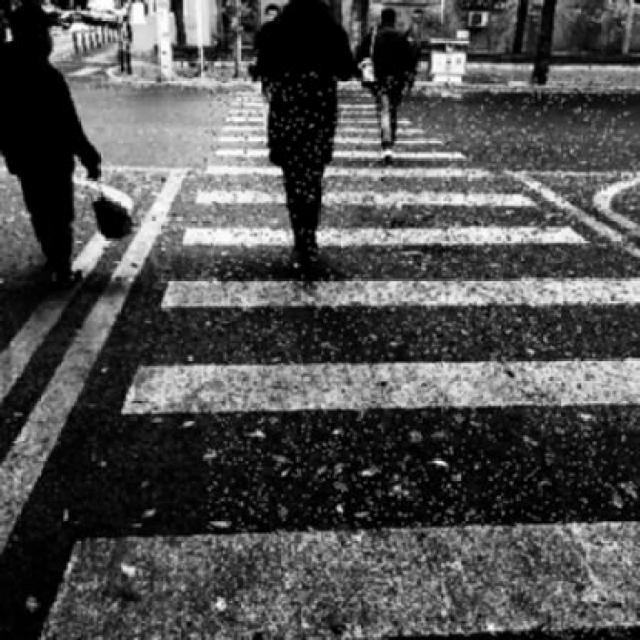crosswalk: (46, 86, 640, 635)
